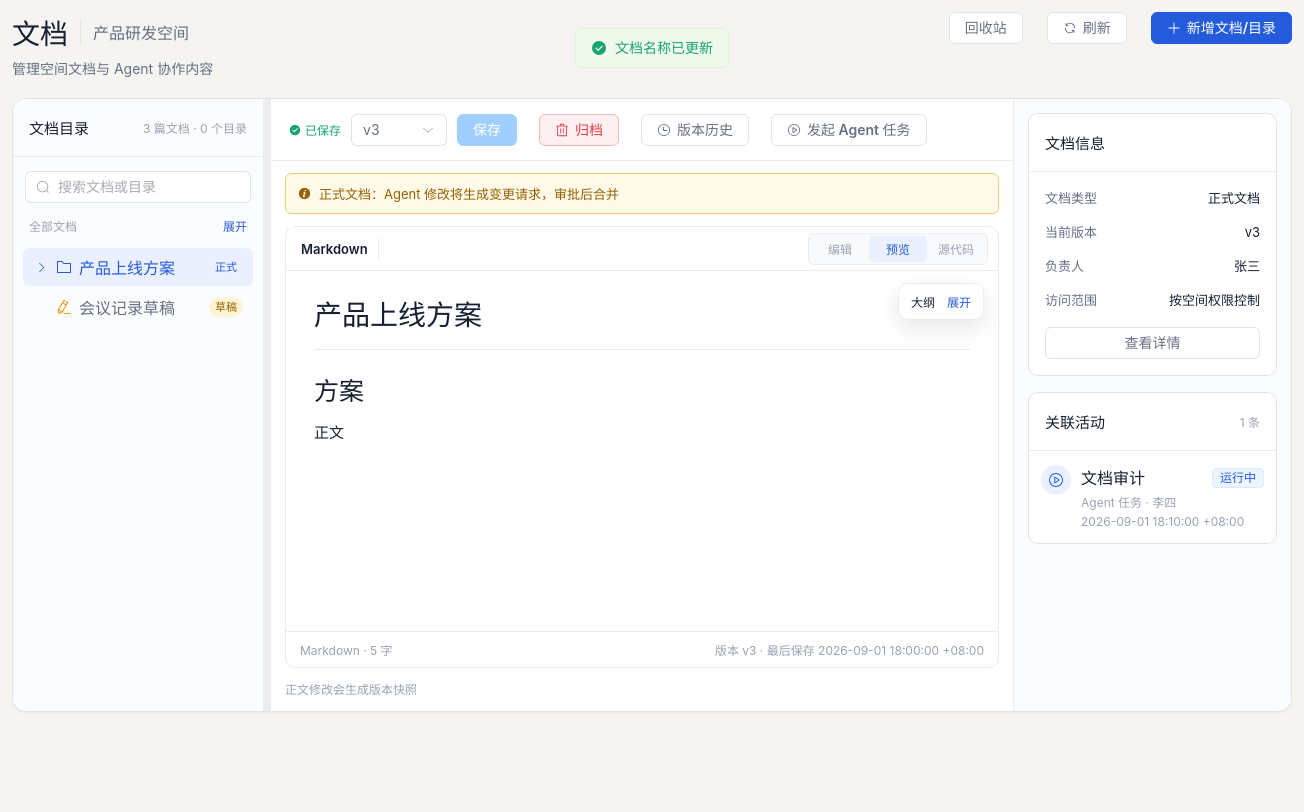
DocumentEditorView › defaults to rendered preview and allows switching to source mode
This screenshot has width=1304, height=812.
Expected: the element with class "markdown-editor__preview" is shown, left=314, top=297, right=970, bottom=442
Expected: the element with class "markdown-editor__preview" shows "方案", left=314, top=376, right=364, bottom=406
What coordinates should you click on to do the following:
click the tab with aria-label "源代码模式"
I would click on:
 (956, 248)
Its box is left=927, top=236, right=985, bottom=262.
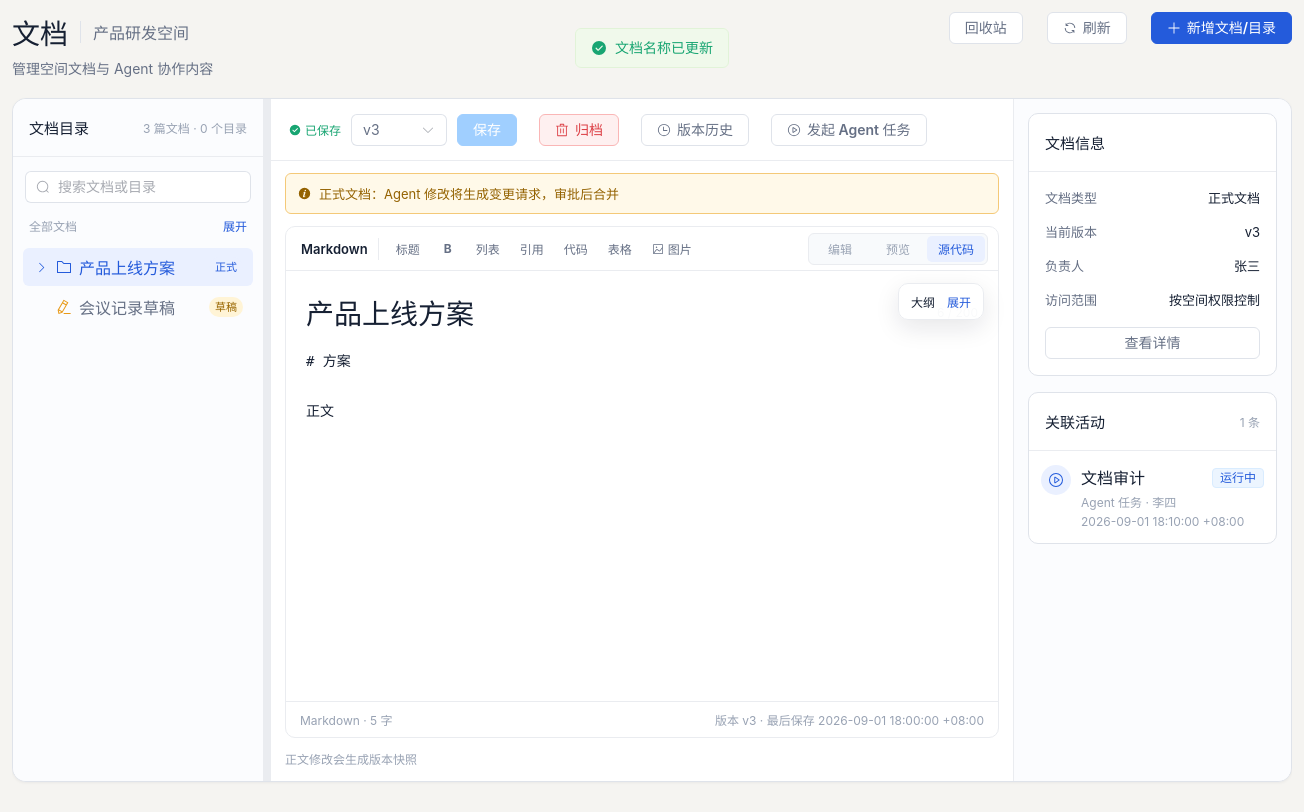
Expected: the text box named "Markdown 文档内容" is shown, left=286, top=341, right=998, bottom=701
